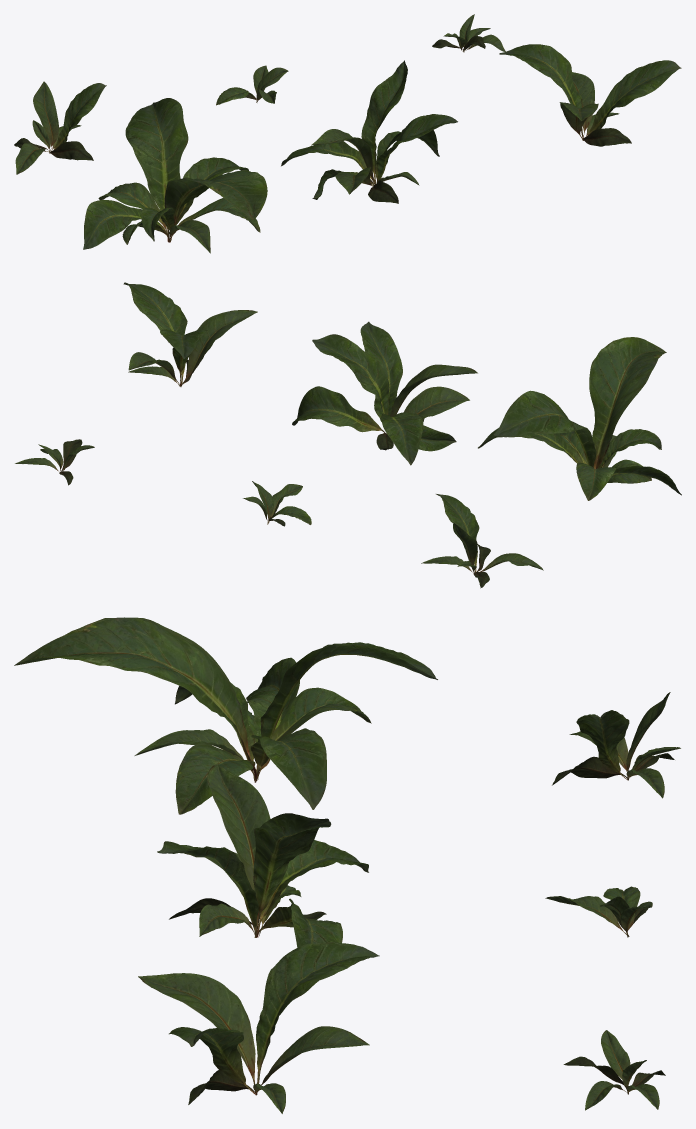
File: plant_anthurium.glb
The picture shows the model from 3 angles, top to bottom: view 1: azimuth 30°, elevation 25°; view 2: azimuth 150°, elevation 25°; view 3: azimuth 270°, elevation 25°; orthographic projection. The views are drawn at different scales.
Parts seen in each view (by area): view 1: anthurium_botany_01_a, anthurium_botany_01_b, anthurium_botany_01_c, anthurium_botany_04_d, anthurium_botany_05_e, anthurium_botany_06_f; view 2: anthurium_botany_01_a, anthurium_botany_01_b, anthurium_botany_01_c, anthurium_botany_04_d, anthurium_botany_05_e, anthurium_botany_06_f; view 3: anthurium_botany_01_a, anthurium_botany_01_b, anthurium_botany_01_c, anthurium_botany_04_d, anthurium_botany_06_f, anthurium_botany_05_e.
Part boxes in pixels (x1,y1,x2,y2): anthurium_botany_01_a: (83, 98, 267, 253); anthurium_botany_01_b: (281, 60, 457, 203); anthurium_botany_01_c: (499, 44, 681, 146); anthurium_botany_04_d: (14, 81, 106, 174); anthurium_botany_05_e: (216, 65, 288, 105); anthurium_botany_06_f: (432, 14, 505, 52); anthurium_botany_01_a: (478, 337, 681, 500); anthurium_botany_01_b: (292, 321, 477, 465); anthurium_botany_01_c: (123, 282, 257, 386); anthurium_botany_04_d: (421, 494, 543, 588); anthurium_botany_05_e: (243, 481, 311, 526); anthurium_botany_06_f: (15, 439, 94, 485); anthurium_botany_01_a: (14, 617, 437, 814); anthurium_botany_01_b: (157, 763, 368, 981); anthurium_botany_01_c: (138, 942, 379, 1113); anthurium_botany_04_d: (552, 692, 680, 798); anthurium_botany_06_f: (563, 1030, 665, 1110); anthurium_botany_05_e: (545, 886, 652, 937).
Bounding box in the file's own units: 2.8 × 0.4997 × 1.8.
1 material, 1 textured.
